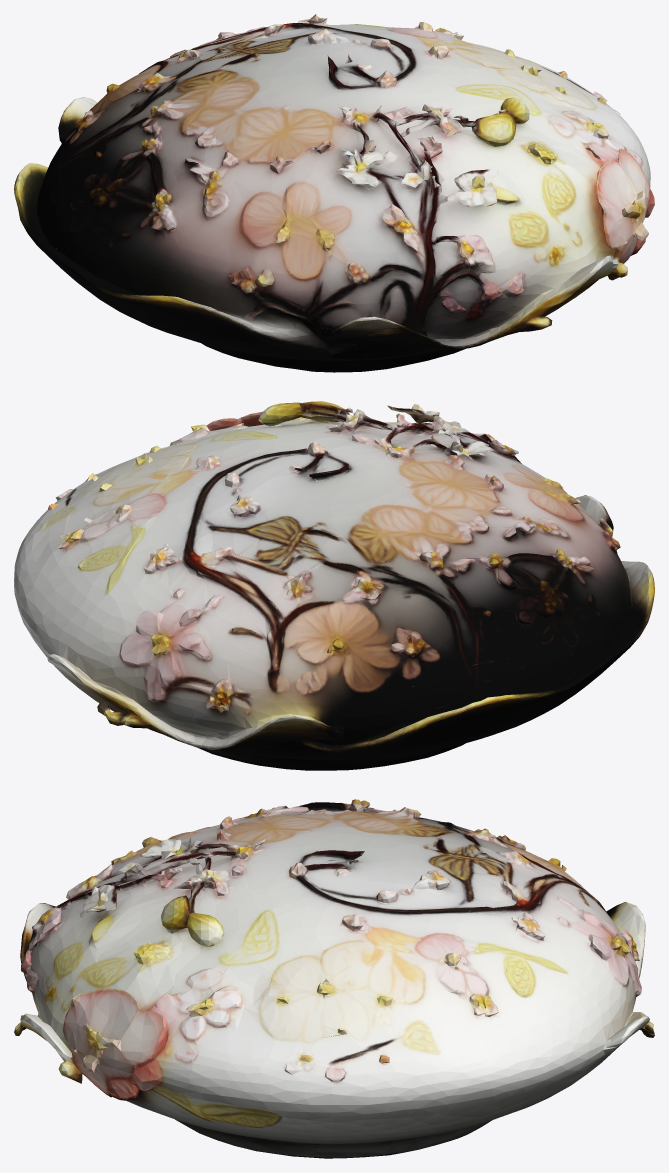
The model's file is porcelain-limited-edition-figurine-japanese.jpeg.glb.
3 renders of one model, top to bottom at view 1: azimuth 30°, elevation 25°; view 2: azimuth 150°, elevation 25°; view 3: azimuth 270°, elevation 25°, orthographic.
Parts seen in each view (by area): view 1: world; view 2: world; view 3: world.
Boxes of the visible parts, x1,y1,x2,y2 form: world: (14, 14, 654, 372); world: (14, 401, 654, 770); world: (14, 799, 654, 1158).
Size of the model in its own units: 1 by 0.4117 by 1.
Materials: 1 (1 with a texture image).
